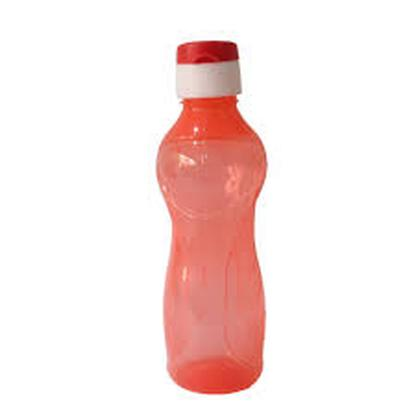plastic bottle: (156, 40, 266, 394)
